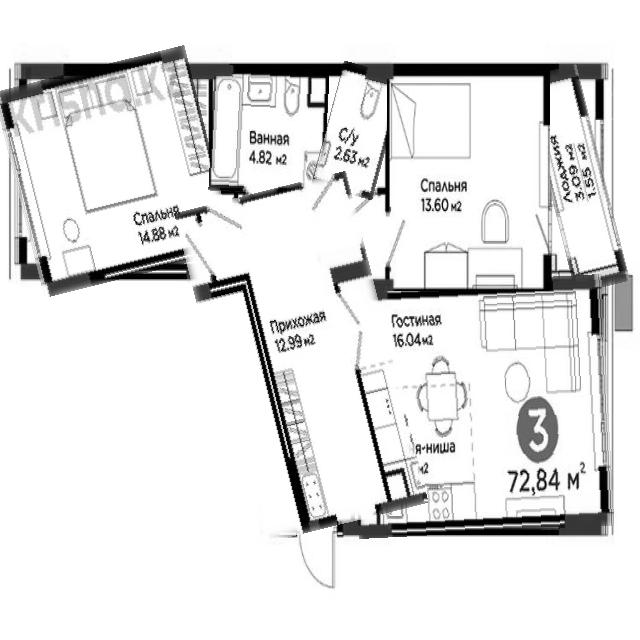balcony: (535, 66, 617, 292)
bathroom: (209, 67, 328, 195), (318, 64, 397, 198)
hallway: (175, 172, 391, 534)
living_room: (4, 55, 223, 288), (387, 64, 550, 291)
studio: (349, 278, 611, 536)
